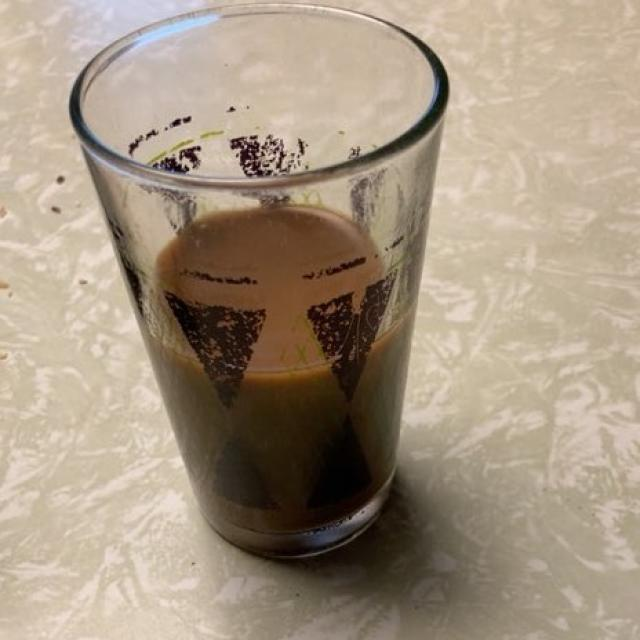coffee: (153, 215, 398, 537)
